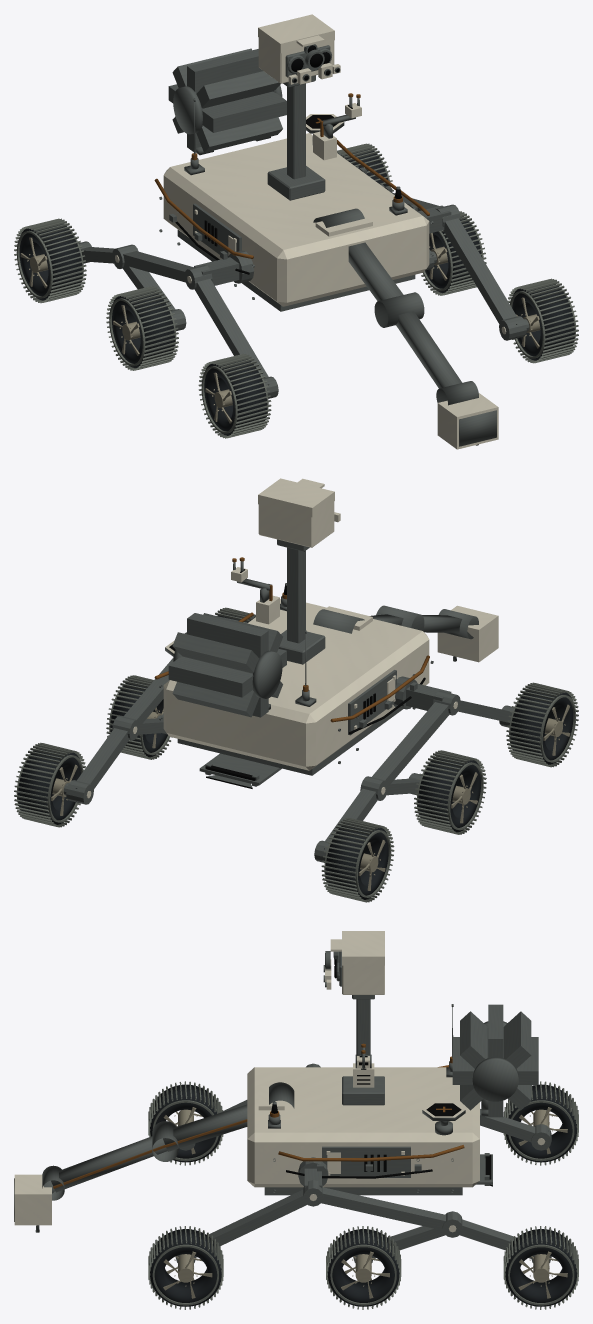
File: RF01_Rover.glb
3 renders of one model, top to bottom at view 1: azimuth 30°, elevation 25°; view 2: azimuth 150°, elevation 25°; view 3: azimuth 270°, elevation 25°, orthographic. The views are drawn at different scales.
Visible parts, largest first — view 1: SM_Chassis, SM_RoboticArm_StaticPose, SM_MMRTG, SM_Mast, SM_Arm_Bogie_L, SM_Wheel_ML, SM_Wheel_RL, SM_Wheel_FL, SM_Wheel_FR, SM_Arm_Bogie_R, SM_Wheel_MR, SM_Chassis_Harness_Details (+2 smaller); view 2: SM_Chassis, SM_MMRTG, SM_Mast, SM_Arm_Bogie_L, SM_RoboticArm_StaticPose, SM_Wheel_ML, SM_Wheel_RL, SM_Wheel_FL, SM_Wheel_RR, SM_Arm_Bogie_R, SM_Wheel_MR, SM_RIMFAX_Bowtie_Underside (+2 smaller); view 3: SM_Chassis, SM_RoboticArm_StaticPose, SM_MMRTG, SM_Arm_Bogie_R, SM_Mast, SM_Wheel_RR, SM_Wheel_MR, SM_Wheel_FR, SM_Wheel_RL, SM_Wheel_FL, SM_Arm_Bogie_L, SM_Chassis_Harness_Details (+2 smaller).
Boxes of the visible parts, x1=… form: SM_Chassis: x1=163, y1=133, x2=429, y2=311; SM_RoboticArm_StaticPose: x1=313, y1=208, x2=498, y2=449; SM_MMRTG: x1=168, y1=48, x2=286, y2=155; SM_Mast: x1=258, y1=14, x2=340, y2=200; SM_Arm_Bogie_L: x1=78, y1=241, x2=278, y2=398; SM_Wheel_ML: x1=106, y1=286, x2=178, y2=370; SM_Wheel_RL: x1=14, y1=218, x2=86, y2=303; SM_Wheel_FL: x1=198, y1=354, x2=271, y2=438; SM_Wheel_FR: x1=508, y1=278, x2=578, y2=363; SM_Arm_Bogie_R: x1=380, y1=184, x2=529, y2=340; SM_Wheel_MR: x1=421, y1=211, x2=486, y2=295; SM_Chassis_Harness_Details: x1=154, y1=140, x2=433, y2=299; SM_Chassis: x1=163, y1=599, x2=429, y2=775; SM_MMRTG: x1=168, y1=613, x2=286, y2=717; SM_Mast: x1=258, y1=478, x2=340, y2=664; SM_Arm_Bogie_L: x1=314, y1=684, x2=513, y2=862; SM_RoboticArm_StaticPose: x1=313, y1=605, x2=498, y2=662; SM_Wheel_ML: x1=414, y1=750, x2=486, y2=834; SM_Wheel_RL: x1=321, y1=818, x2=394, y2=902; SM_Wheel_FL: x1=506, y1=682, x2=578, y2=767; SM_Wheel_RR: x1=14, y1=742, x2=85, y2=827; SM_Arm_Bogie_R: x1=63, y1=657, x2=173, y2=804; SM_Wheel_MR: x1=106, y1=675, x2=172, y2=759; SM_RIMFAX_Bowtie_Underside: x1=199, y1=753, x2=281, y2=788; SM_Chassis: x1=247, y1=1067, x2=479, y2=1195; SM_RoboticArm_StaticPose: x1=14, y1=1082, x2=294, y2=1232; SM_MMRTG: x1=452, y1=1004, x2=538, y2=1117; SM_Arm_Bogie_R: x1=175, y1=1168, x2=551, y2=1262; SM_Mast: x1=323, y1=931, x2=384, y2=1105; SM_Wheel_RR: x1=503, y1=1226, x2=578, y2=1309; SM_Wheel_MR: x1=326, y1=1226, x2=401, y2=1309; SM_Wheel_FR: x1=148, y1=1226, x2=223, y2=1309; SM_Wheel_RL: x1=503, y1=1081, x2=578, y2=1165; SM_Wheel_FL: x1=148, y1=1081, x2=223, y2=1165; SM_Arm_Bogie_L: x1=180, y1=1063, x2=551, y2=1150; SM_Chassis_Harness_Details: x1=273, y1=1065, x2=464, y2=1192.
Bounding box in the file's own units: 2.64 × 2.2 × 3.93.
Materials: 8 (8 with a texture image).
